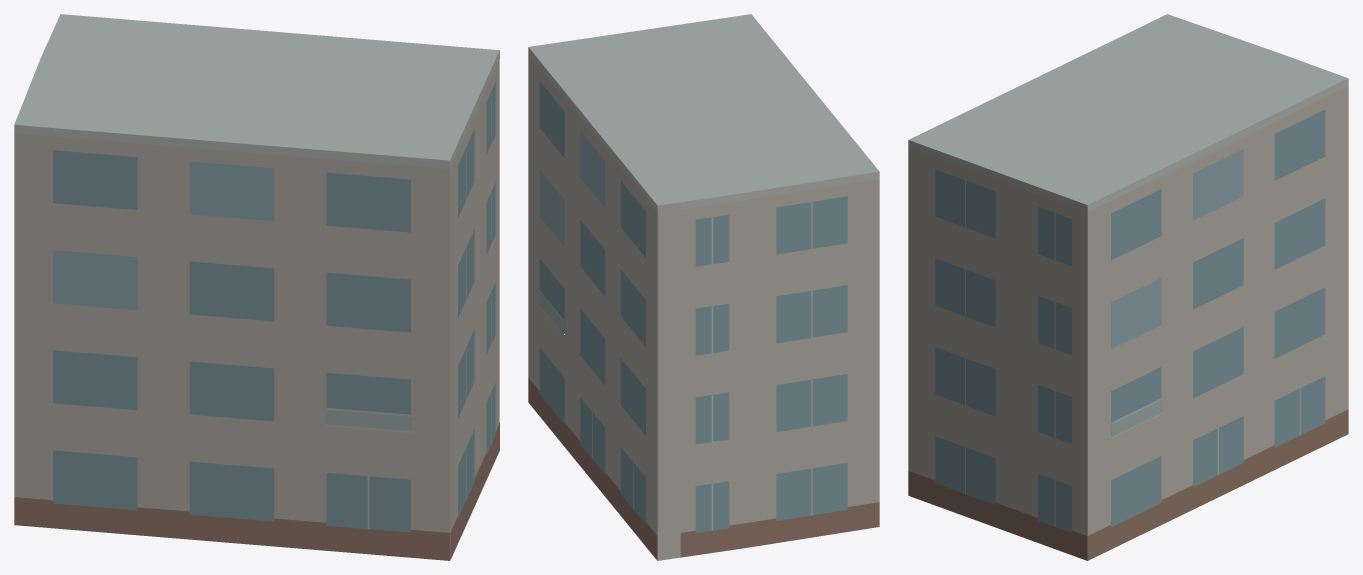
The model's file is survey-upis-32679194.glb.
3 views of the same model, side by side, from view 1: azimuth 30°, elevation 25°; view 2: azimuth 150°, elevation 25°; view 3: azimuth 270°, elevation 25° (orthographic). The views are drawn at different scales.
Parts seen in each view (by area): view 1: survey-upis-32679194.tmp; view 2: survey-upis-32679194.tmp; view 3: survey-upis-32679194.tmp.
Part boxes in pixels (<box>): survey-upis-32679194.tmp: <box>14,14,499,560</box>; survey-upis-32679194.tmp: <box>528,14,879,560</box>; survey-upis-32679194.tmp: <box>908,14,1348,560</box>.
Size of the model in its own units: 13.49 by 11.7 by 13.13.
